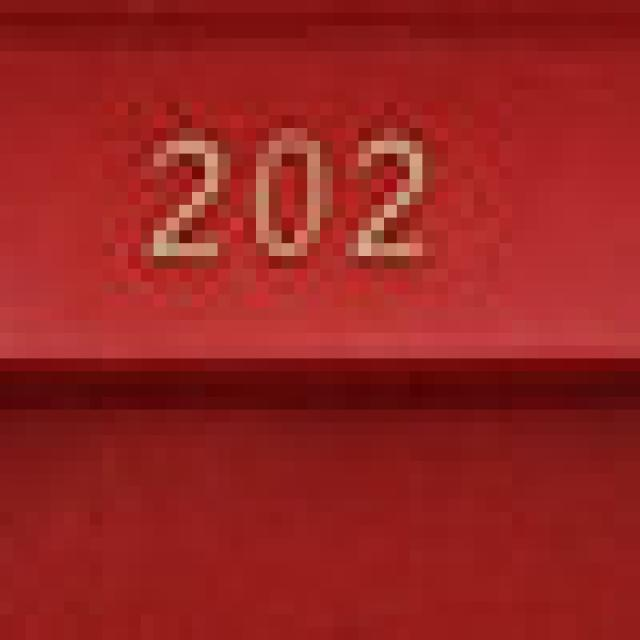no_fire: (13, 13, 614, 597)
